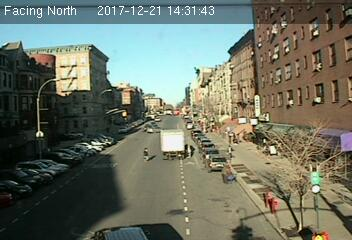car: (208, 155, 228, 171)
truck: (159, 129, 186, 159)
